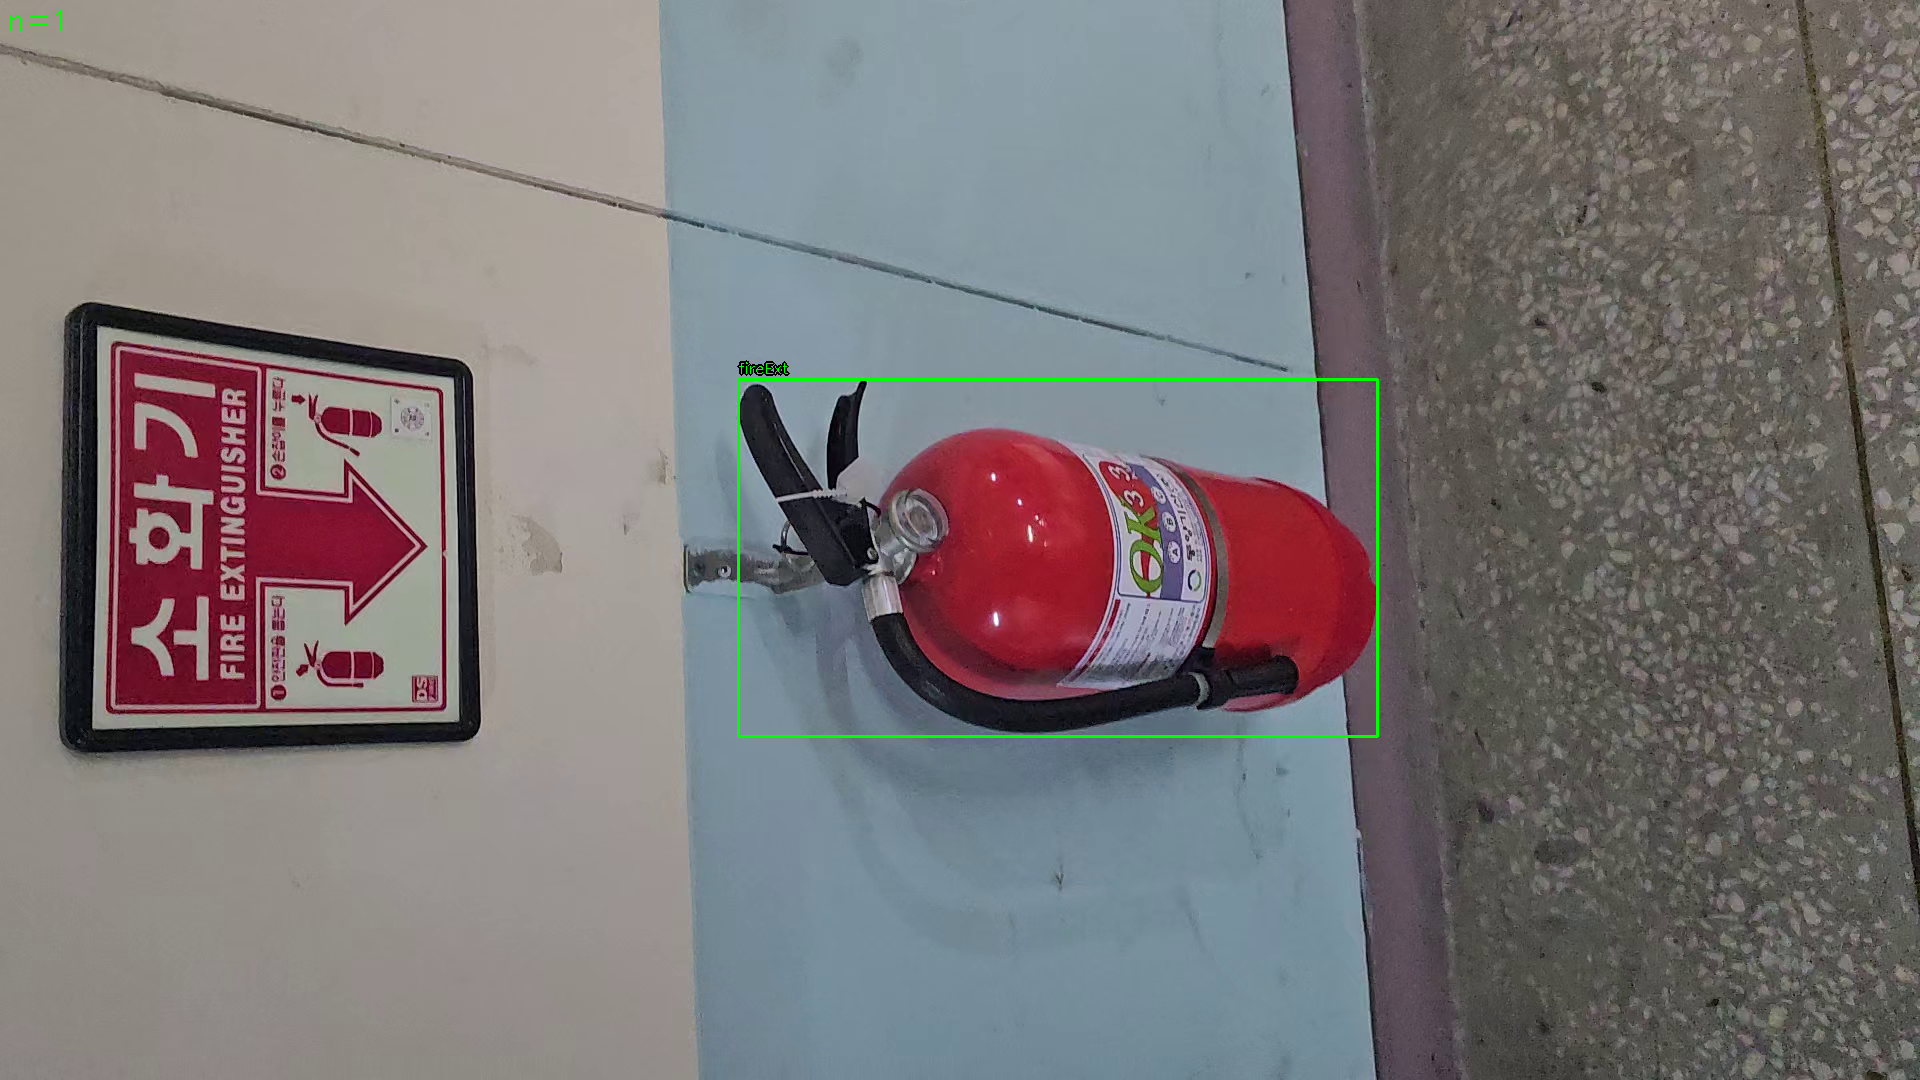lane: (738, 378, 1378, 737)
